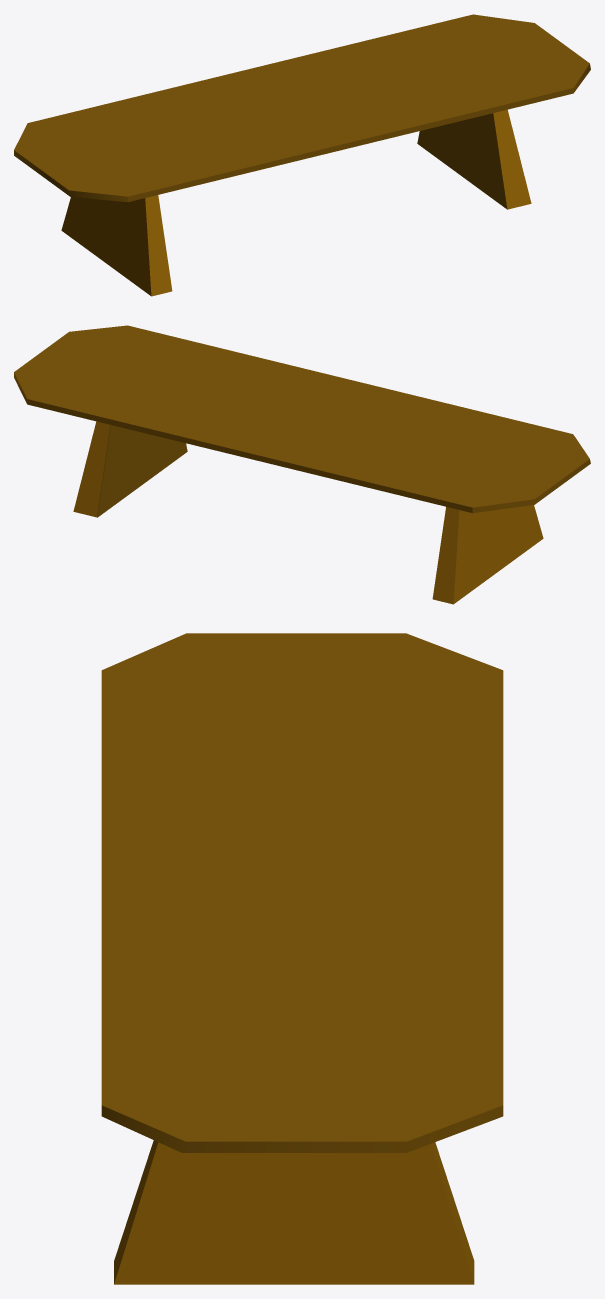
File: big table.fbx
3 views of the same model, one above another, from view 1: azimuth 30°, elevation 25°; view 2: azimuth 150°, elevation 25°; view 3: azimuth 270°, elevation 25° (orthographic). The views are drawn at different scales.
Parts seen in each view (by area): view 1: big_table; view 2: big_table; view 3: big_table.
Boxes of the visible parts, x1,y1,x2,y2 form: big_table: (14,14,590,296); big_table: (14,325,590,604); big_table: (101,633,503,1284).
Size of the model in its own units: 16.38 by 3.26 by 5.47.
